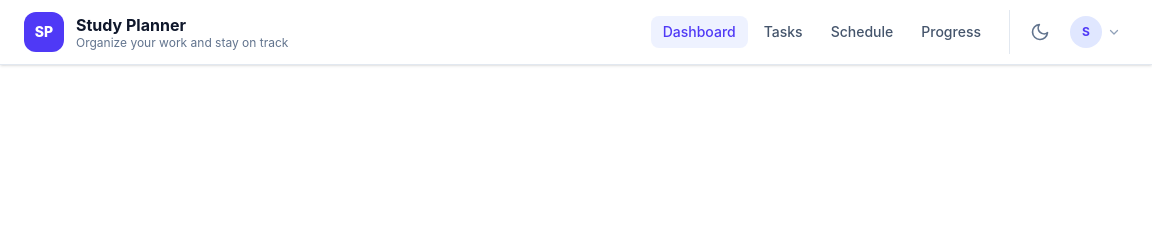
Scenario: Navbar › opens the dropdown when the account button is clicked
What coordinates should you click on to do the following:
click the button named "Account menu"
I would click on:
 (1095, 32)
Its box is [1062,10,1128,54].
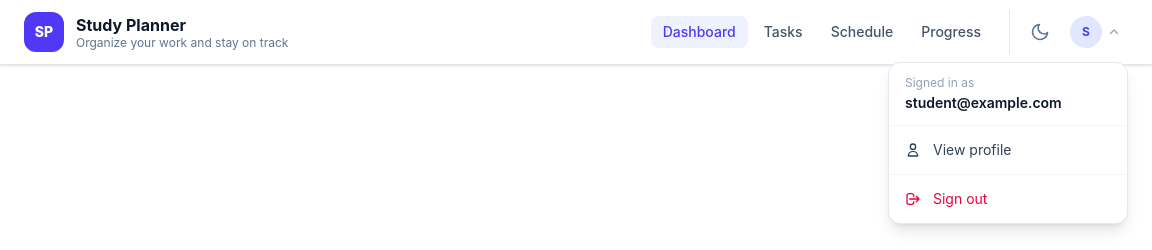
Expected: the menu is shown, [888,62,1128,224]
